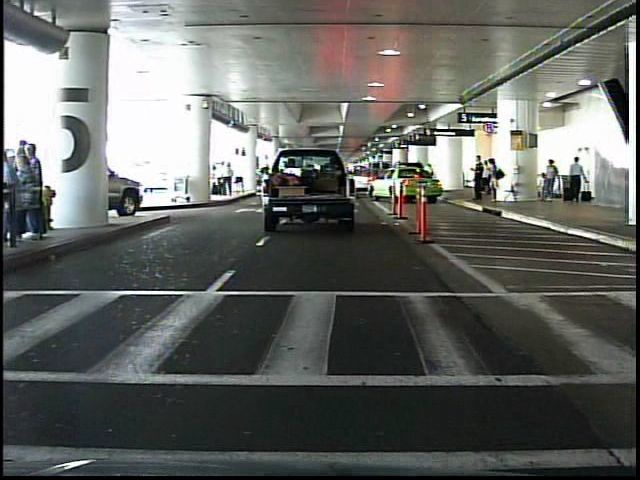person: (470, 154, 487, 206), (487, 157, 504, 205), (483, 160, 490, 198)
